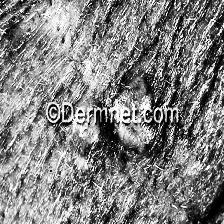Benign Marking or Mole: (108, 74, 155, 155)
